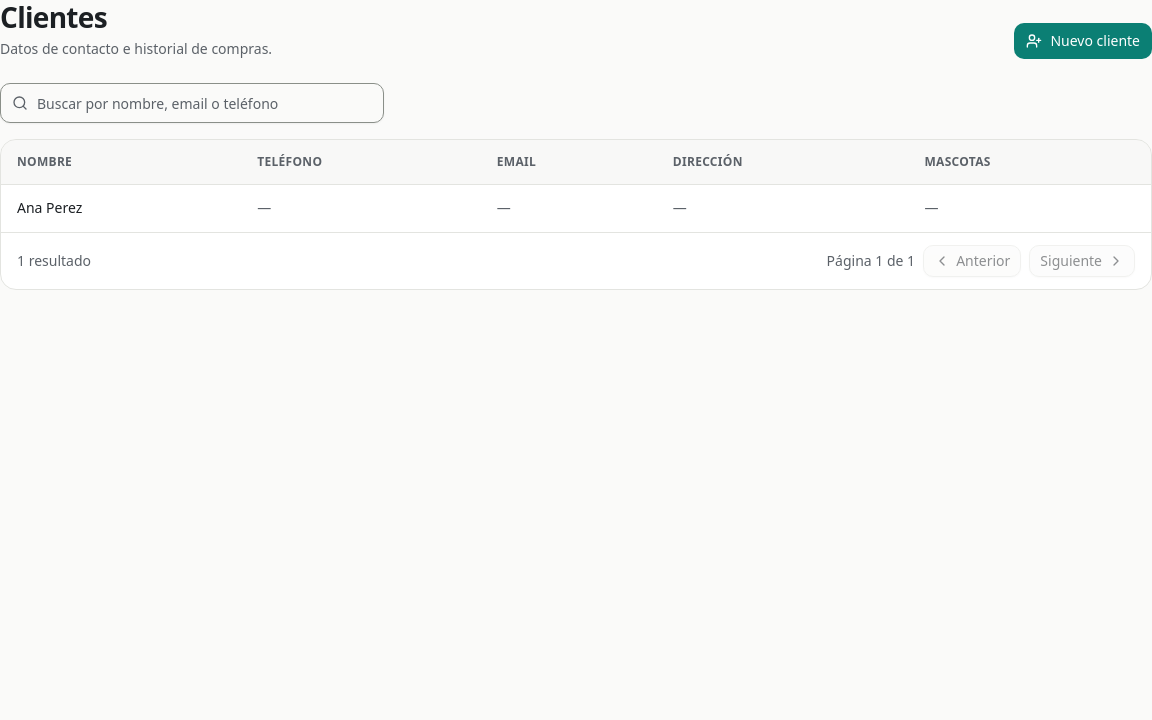
ClientesPage › el mostrador da de alta un cliente y ve 'Cliente creado'
This screenshot has width=1152, height=720.
Expected: the link "Ana Perez" is shown, [17,198,82,217]
Step 1. Click the button "Nuevo cliente" → (1083,41), box [1014,23,1151,59]
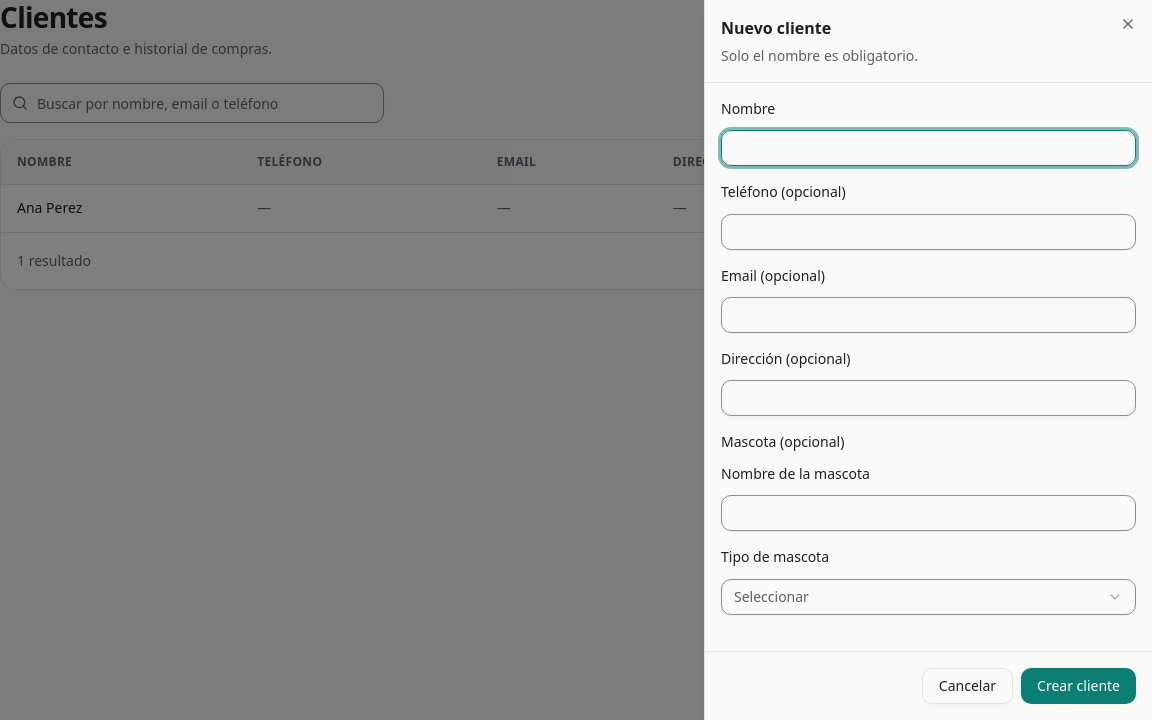
Step 2. Type "Lucía Herrera" into the field labelled "Nombre" → (928,148), box [721,130,1136,166]
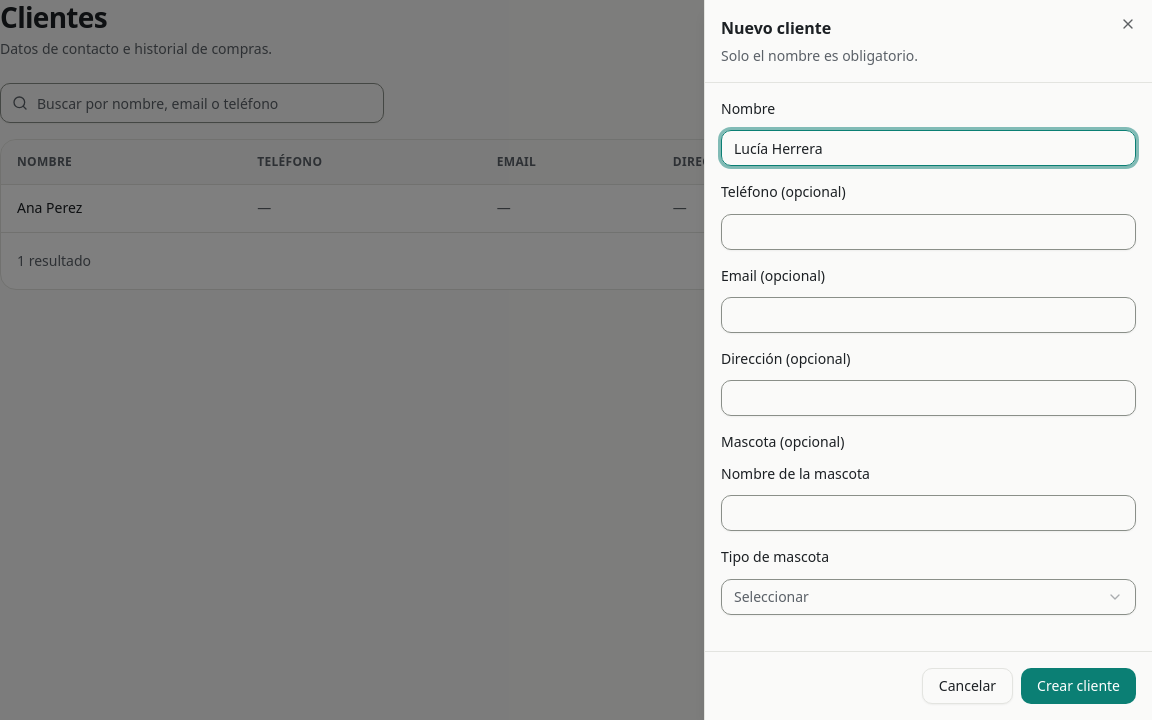
Step 3. Type "351-8901234" into the field labelled "Teléfono (opcional)" → (928,232), box [721,214,1136,250]
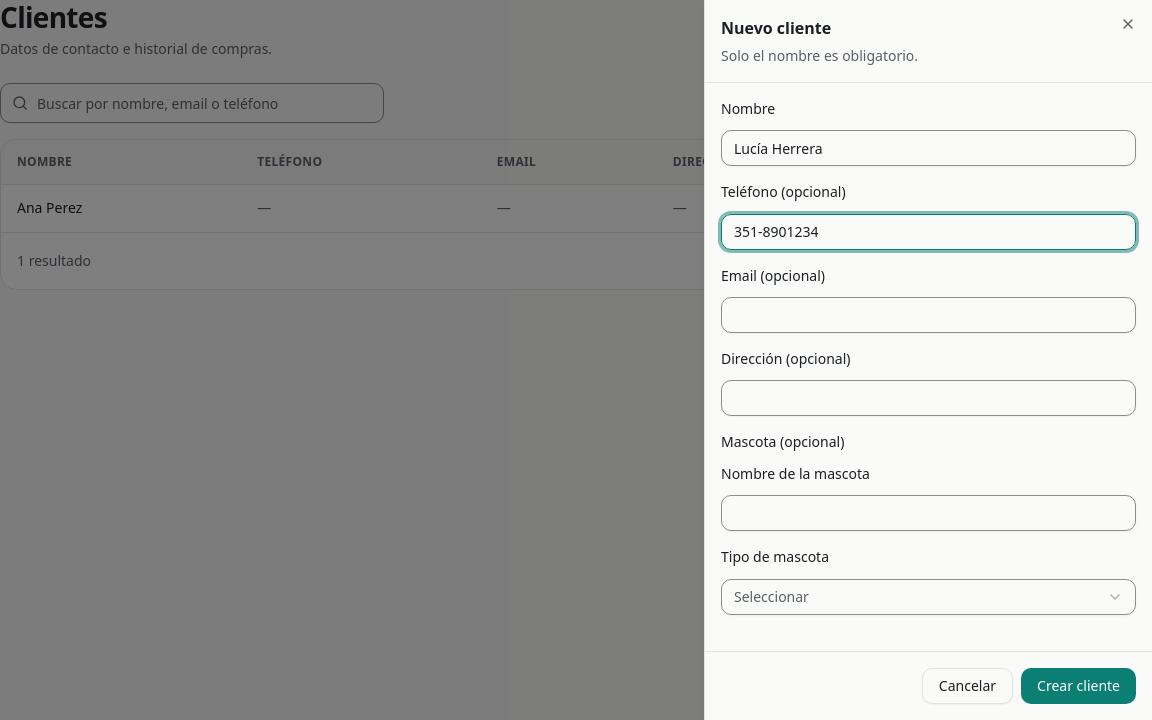
Step 4. Click the button "Crear cliente" → (1078,686), box [1021,668,1136,704]
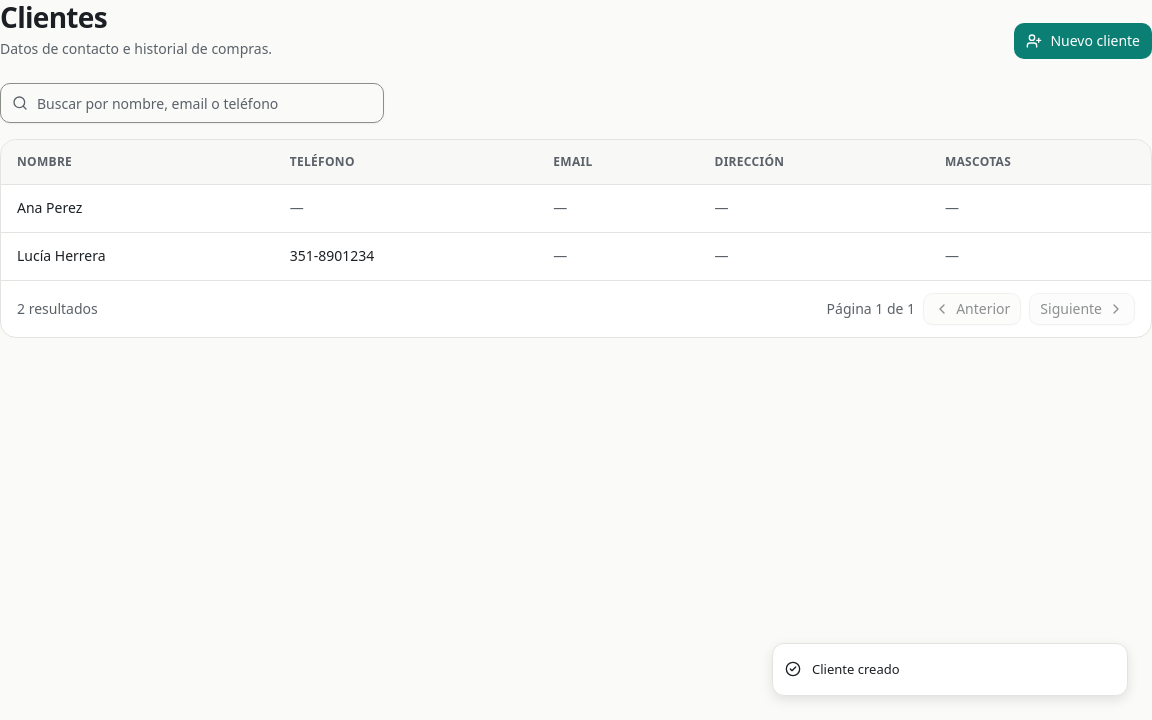
Now the text "Cliente creado" is shown, box [812,660,900,679]
Now the link "Lucía Herrera" is shown, box [17,246,106,265]
